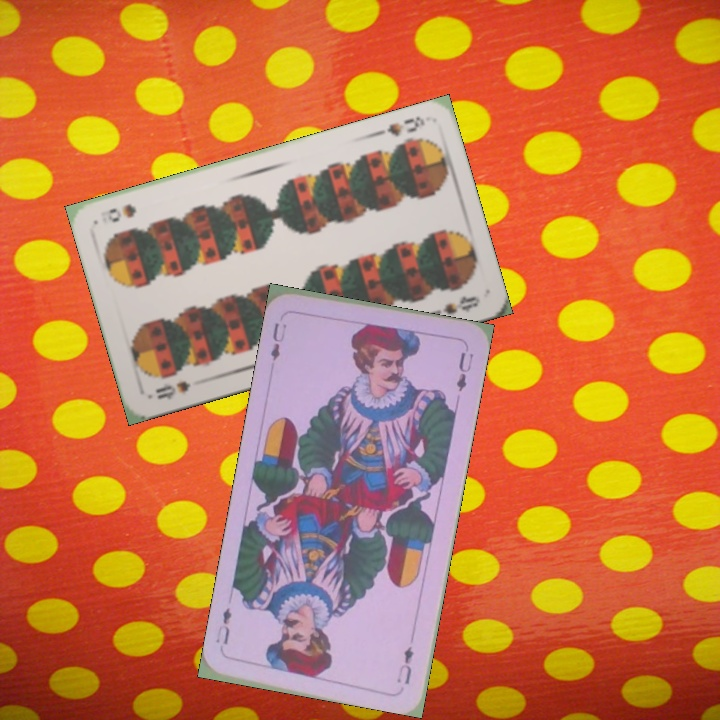EU: (392, 642, 416, 687), (266, 319, 289, 363)
S8: (371, 112, 428, 139), (151, 377, 193, 402)
